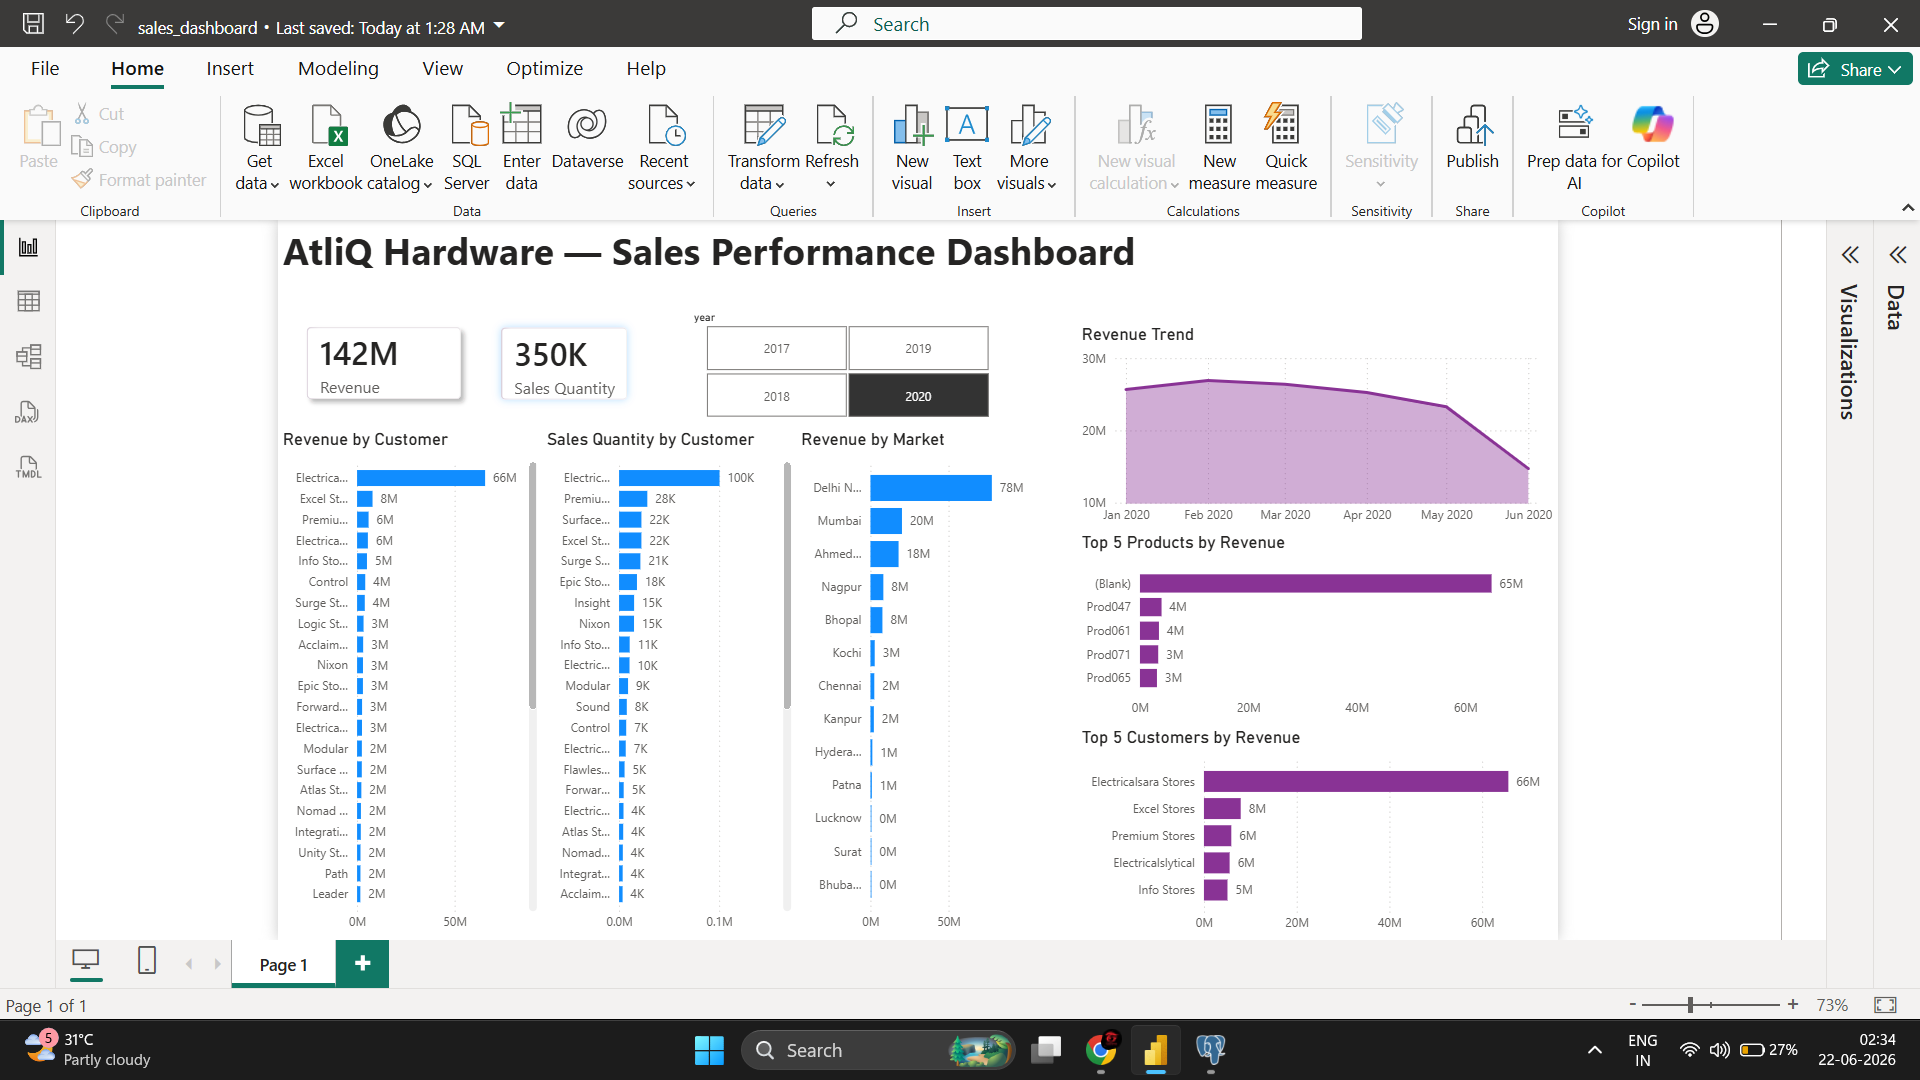

The dashboard page shown, as its layout file describes it:
{"tool":"powerbi","page":{"name":"Page 1","canvas":[1280,720],"ordinal":0},"visuals":[{"type":"cardVisual","fields":{"Data":["base measures.Revenue"]},"box":[0,78.6,212.9,130],"z":0},{"type":"cardVisual","fields":{"Data":["base measures.Sales Quantity"]},"box":[195.7,80,182.9,128.6],"z":1000},{"type":"clusteredBarChart","title":"Revenue by Customer","fields":{"Category":["public customers.custmer_name"],"Y":["base measures.Revenue"]},"box":[0,209.5,264,511.2],"z":2000},{"type":"clusteredBarChart","title":"Sales Quantity by Customer","fields":{"Category":["public customers.custmer_name"],"Y":["base measures.Sales Quantity"]},"box":[264,209.5,254.2,511.2],"z":3000},{"type":"slicer","fields":{"Values":["public date.year"]},"box":[402.9,85.7,331.4,118.6],"z":4000},{"type":"lineChart","title":"Revenue Trend","fields":{"Y":["base measures.Revenue"],"Category":["public date.cy_date.Variation.Date Hierarchy.Year","public date.cy_date.Variation.Date Hierarchy.Quarter","public date.cy_date.Variation.Date Hierarchy.Month","public date.cy_date.Variation.Date Hierarchy.Day"]},"box":[798.9,104.7,480.4,208.1],"z":5000},{"type":"clusteredBarChart","title":"Top 5 Customers by Revenue","fields":{"Category":["public customers.custmer_name"],"Y":["base measures.Revenue"]},"box":[798.9,507,480.4,213.7],"z":6000},{"type":"clusteredBarChart","title":"Top 5 Products by Revenue","fields":{"Y":["base measures.Revenue"],"Category":["public products.product_code"]},"box":[798.9,312.8,463.7,194.1],"z":7000},{"type":"clusteredBarChart","title":"Revenue by Market","fields":{"Y":["base measures.Revenue"],"Category":["public markets.markets_name"]},"box":[518.1,209.5,244.4,511.2],"z":8000},{"type":"textbox","box":[0,0,1077.1,80],"z":9000}]}

Visuals, with their boxes on the page's 1280x720 design canvas (x1, y1, x2, y2). These are canvas units, not pixel positions in the 1920x1080 screenshot, which may show the page scaled, cropped or inside an application window:
cardVisual - base measures.Revenue: region(0, 79, 213, 209)
cardVisual - base measures.Sales Quantity: region(196, 80, 379, 209)
"Revenue by Customer" clusteredBarChart: region(0, 210, 264, 721)
"Sales Quantity by Customer" clusteredBarChart: region(264, 210, 518, 721)
slicer - public date.year: region(403, 86, 734, 204)
"Revenue Trend" lineChart: region(799, 105, 1279, 313)
"Top 5 Customers by Revenue" clusteredBarChart: region(799, 507, 1279, 721)
"Top 5 Products by Revenue" clusteredBarChart: region(799, 313, 1263, 507)
"Revenue by Market" clusteredBarChart: region(518, 210, 762, 721)
textbox: region(0, 0, 1077, 80)
